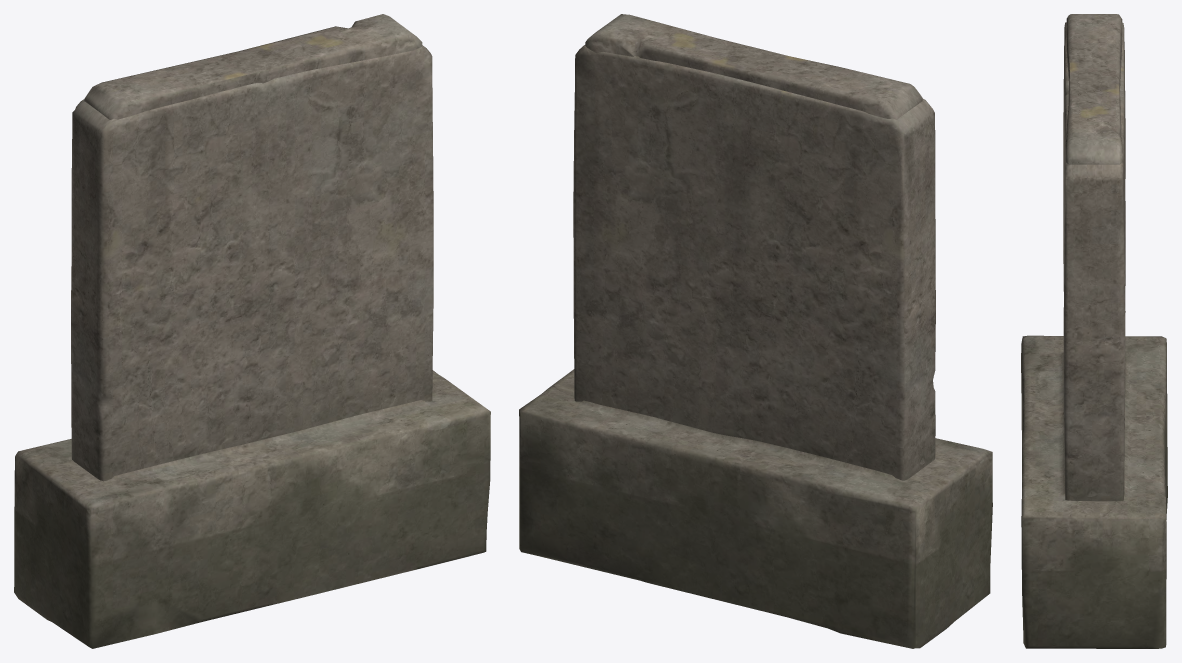
Rendered from midSquare.glb.
3 renders of one model, left to right at view 1: azimuth 30°, elevation 25°; view 2: azimuth 150°, elevation 25°; view 3: azimuth 270°, elevation 25°, orthographic. The views are drawn at different scales.
Parts seen in each view (by area): view 1: midSquare_a, midSquare_b; view 2: midSquare_a, midSquare_b; view 3: midSquare_b, midSquare_a.
Part boxes in pixels (x1,y1,x2,y2): midSquare_a: [71, 45, 433, 481]; midSquare_b: [14, 14, 490, 648]; midSquare_a: [573, 45, 935, 480]; midSquare_b: [519, 14, 992, 648]; midSquare_b: [1021, 14, 1167, 648]; midSquare_a: [1063, 22, 1125, 501].
Size of the model in its own units: 0.7252 by 0.895 by 0.2461.
Materials: 2 (2 with a texture image).
